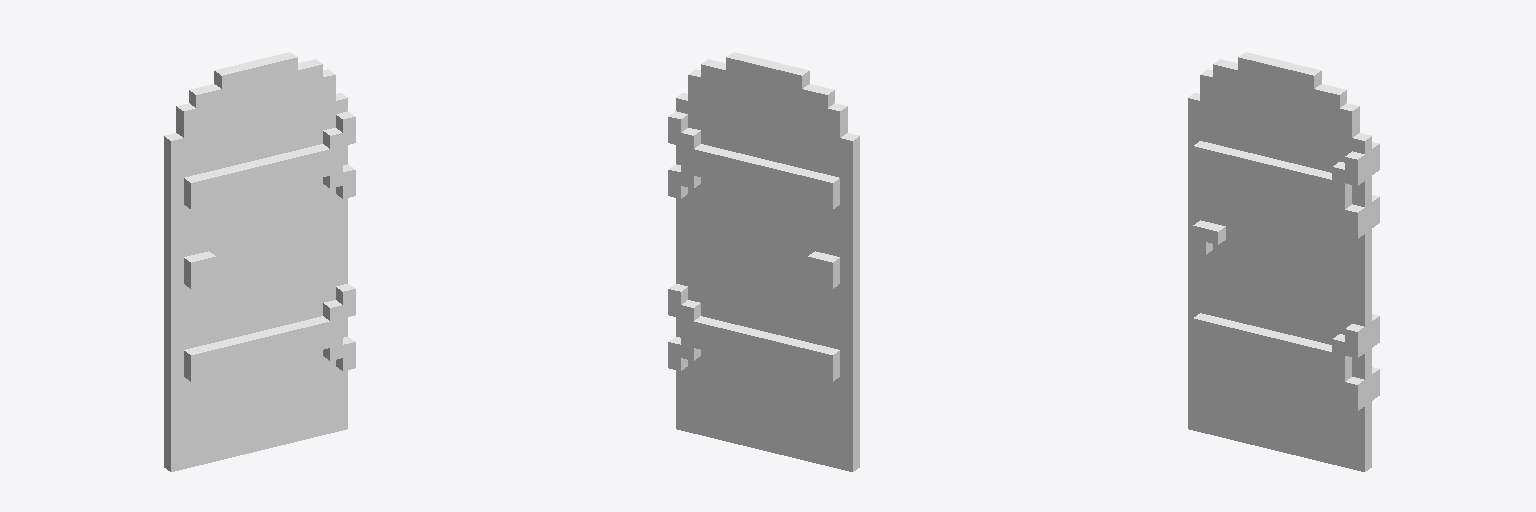
File: door.obj
The picture shows the model from 3 angles: view 1: azimuth 30°, elevation 25°; view 2: azimuth 150°, elevation 25°; view 3: azimuth 330°, elevation 25°; orthographic projection.
Parts seen in each view (by area): view 1: door; view 2: door; view 3: door.
Boxes of the visible parts, <box> form: door: <box>164,52,355,471</box>; door: <box>668,52,859,471</box>; door: <box>1188,52,1379,471</box>.
Bounding box in the file's own units: 13.27 × 27.49 × 2.84.